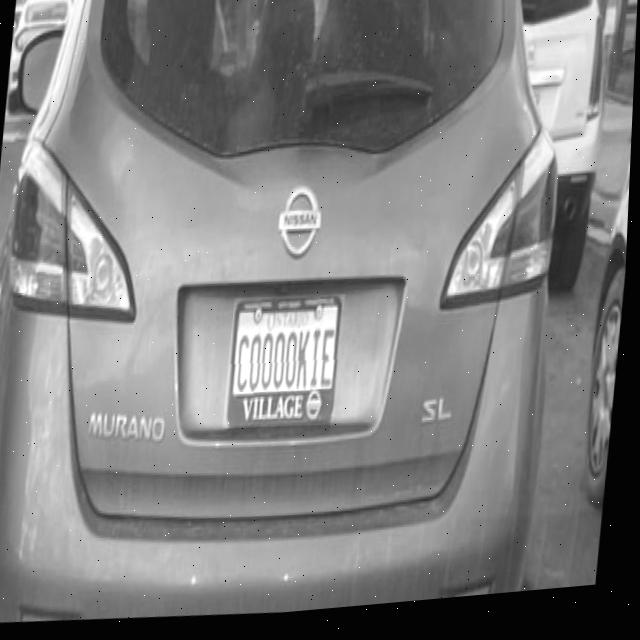LicensePlate: (230, 301, 347, 433)
